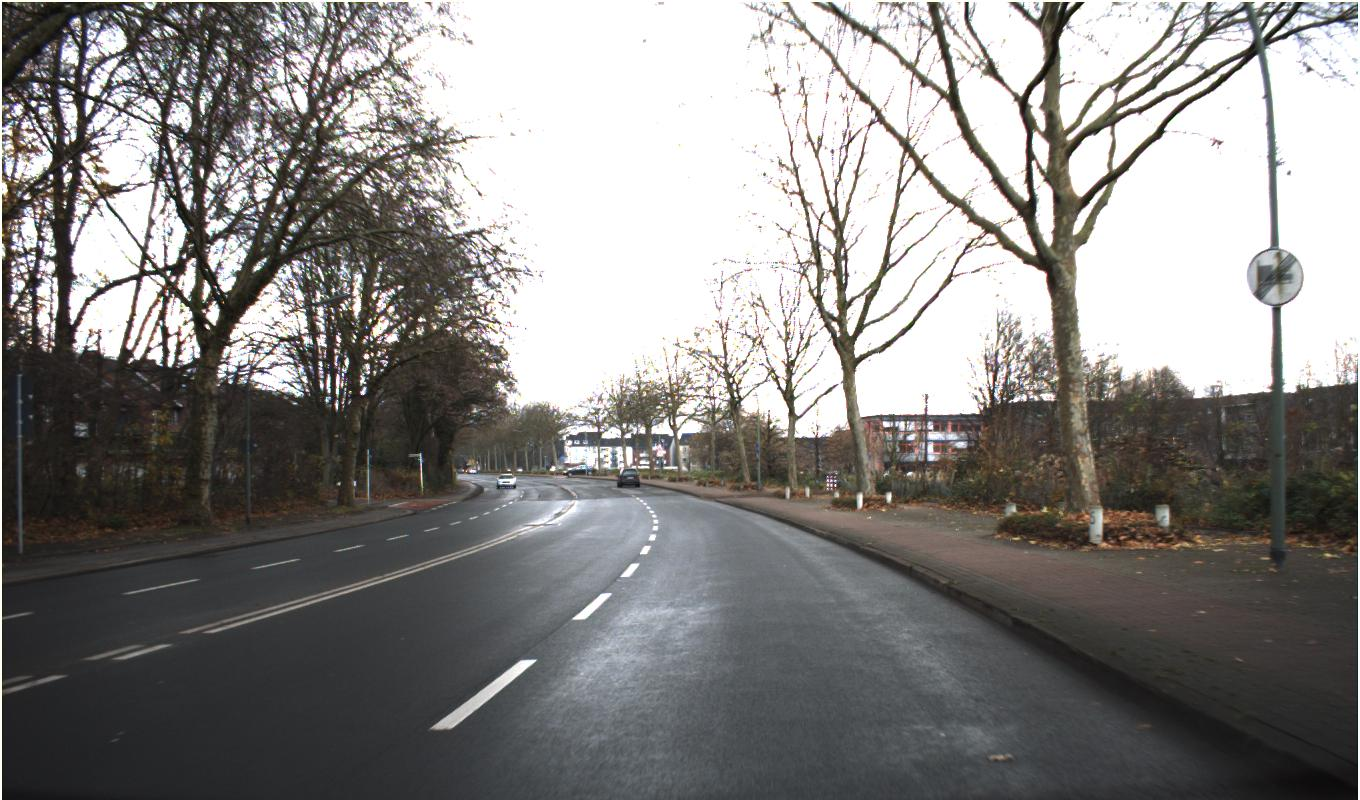sign: (1245, 247, 1304, 306)
